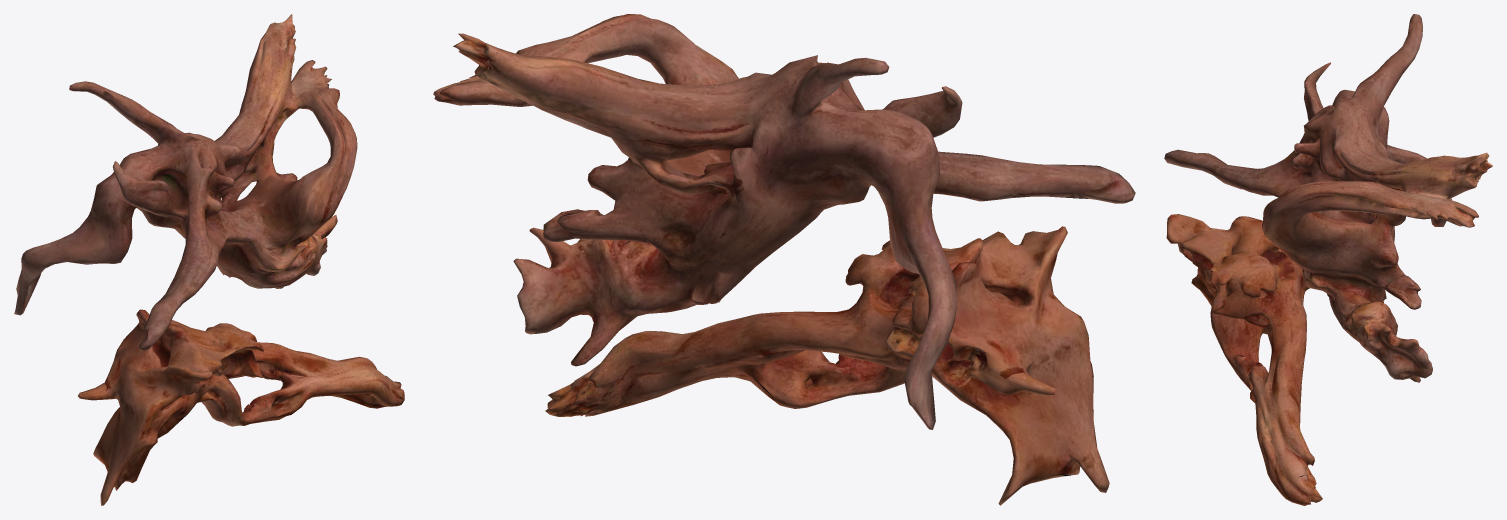
File: driftwood_crimson.glb
3 views of the same model, side by side, from view 1: azimuth 30°, elevation 25°; view 2: azimuth 150°, elevation 25°; view 3: azimuth 270°, elevation 25° (orthographic). The views are drawn at different scales.
Visible parts, largest first — view 1: driftwood_crimson_00, driftwood_crimson_01; view 2: driftwood_crimson_00, driftwood_crimson_01; view 3: driftwood_crimson_00, driftwood_crimson_01.
Part boxes in pixels (left/top/right/bottom): driftwood_crimson_00: left=14, top=14, right=357, bottom=349; driftwood_crimson_01: left=78, top=309, right=404, bottom=505; driftwood_crimson_00: left=433, top=14, right=1135, bottom=429; driftwood_crimson_01: left=545, top=226, right=1109, bottom=505; driftwood_crimson_00: left=1164, top=14, right=1492, bottom=382; driftwood_crimson_01: left=1166, top=214, right=1322, bottom=505.
Bounding box in the file's own units: 1.9 × 1.83 × 1.53.
Materials: 1 (1 with a texture image).
